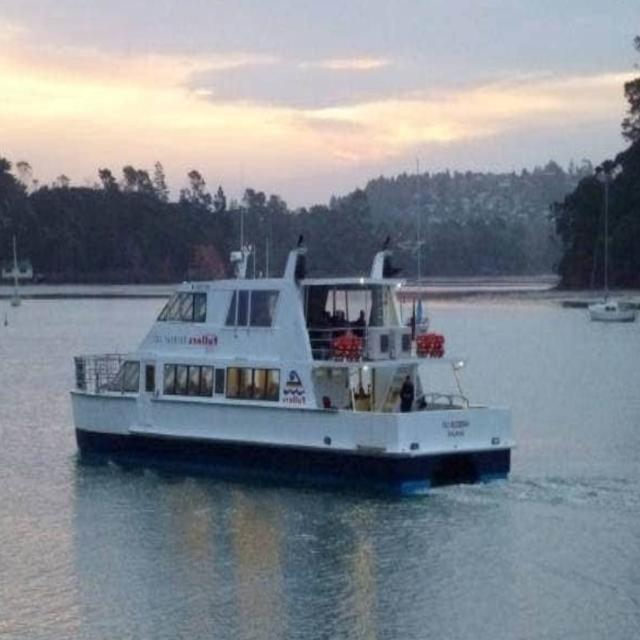houseboat: (73, 216, 506, 474)
